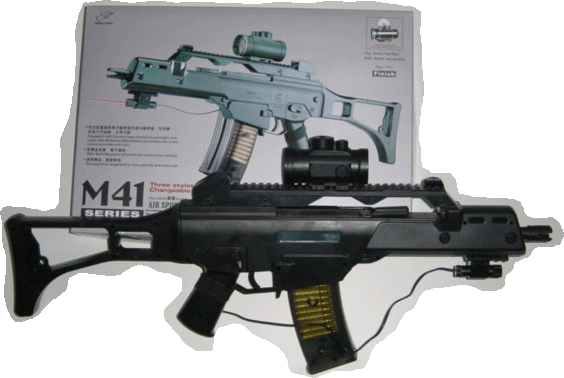rifle: (7, 33, 555, 366)
